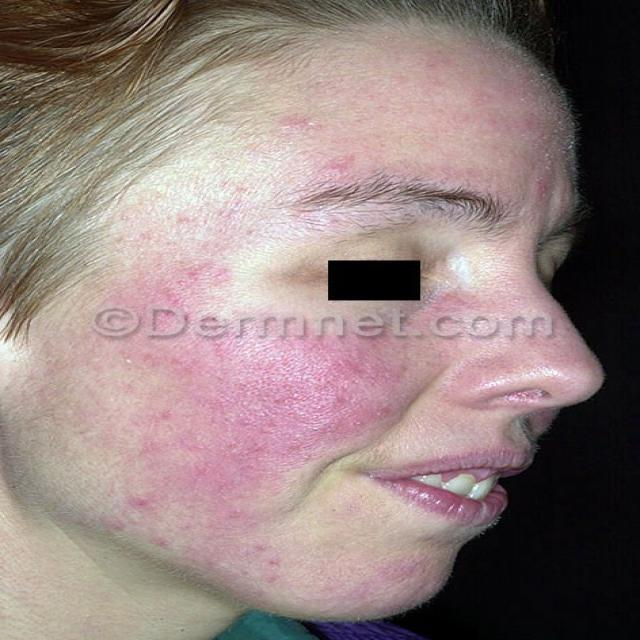Rosacea: (111, 245, 398, 560), (295, 56, 563, 186), (438, 289, 518, 378)
